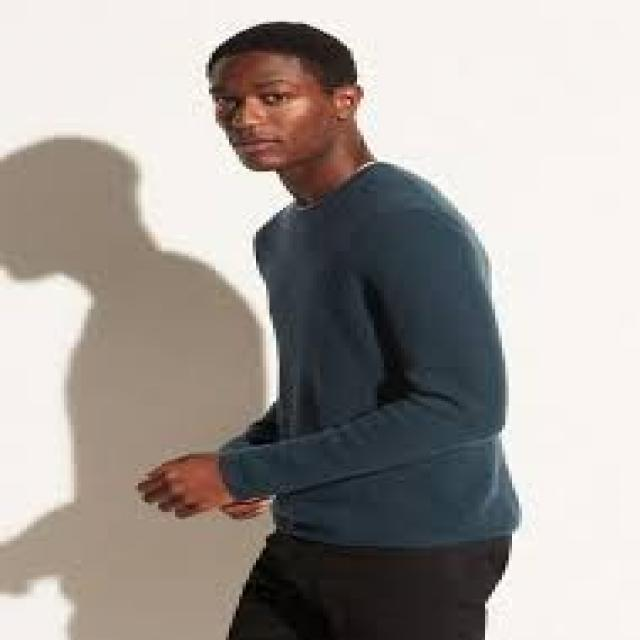plain: (208, 159, 526, 549)
